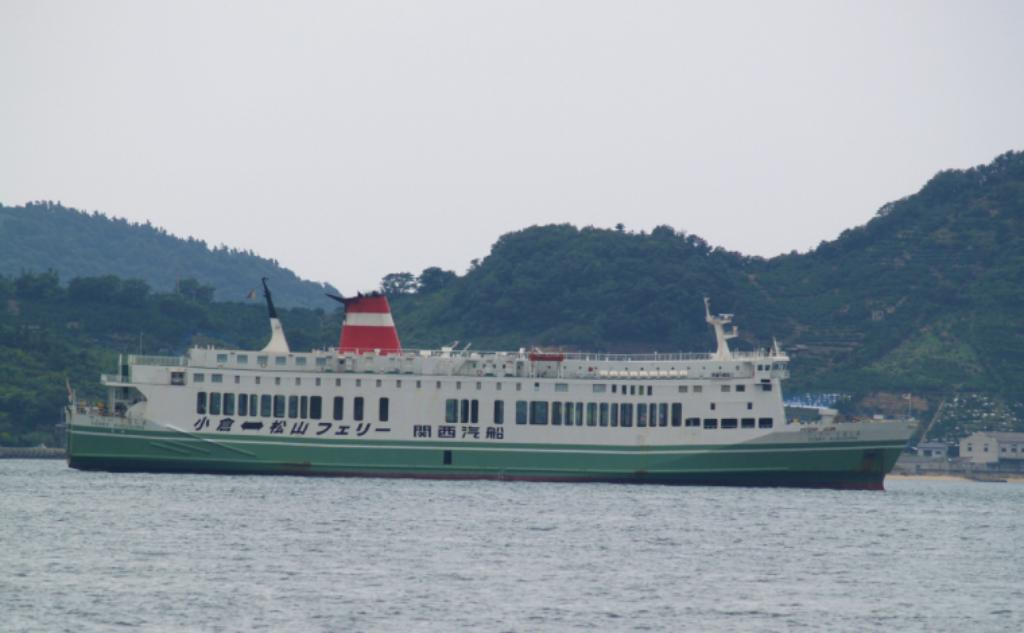PassengerShip: (52, 274, 908, 504)
